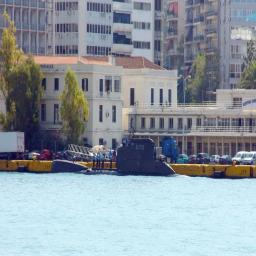submarine: (75, 139, 193, 179)
